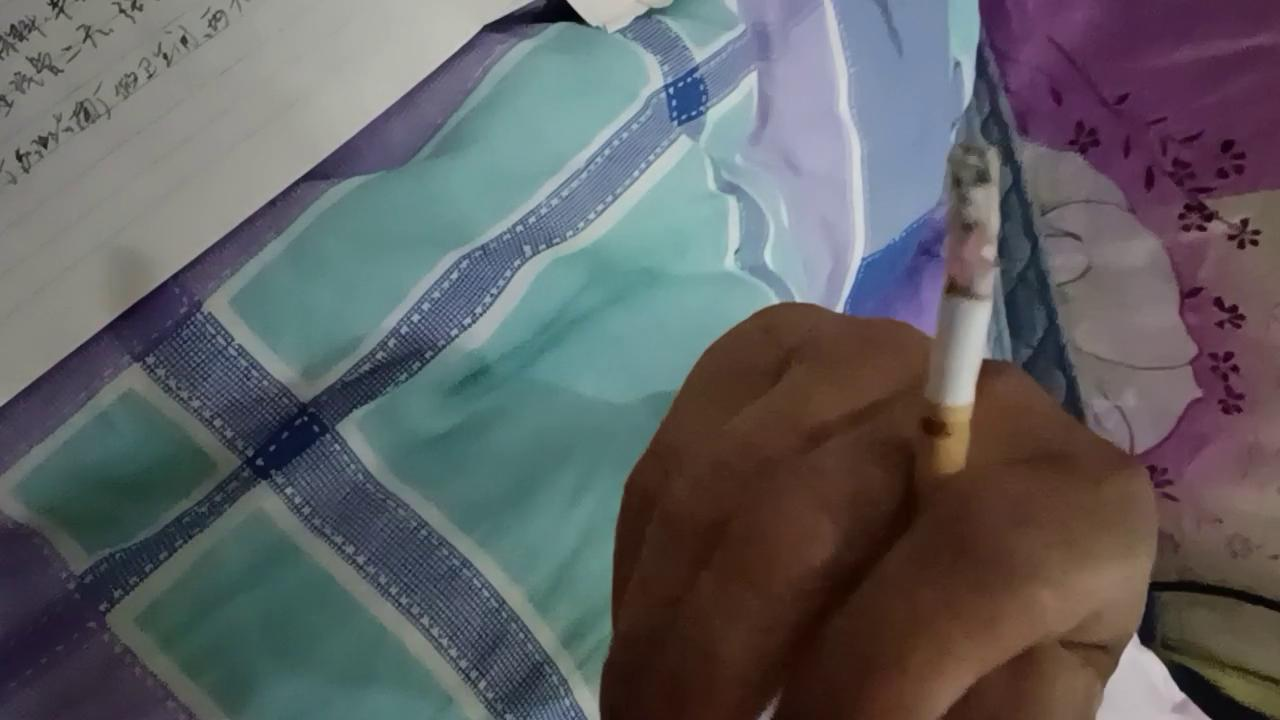smoke: (907, 143, 1005, 574)
